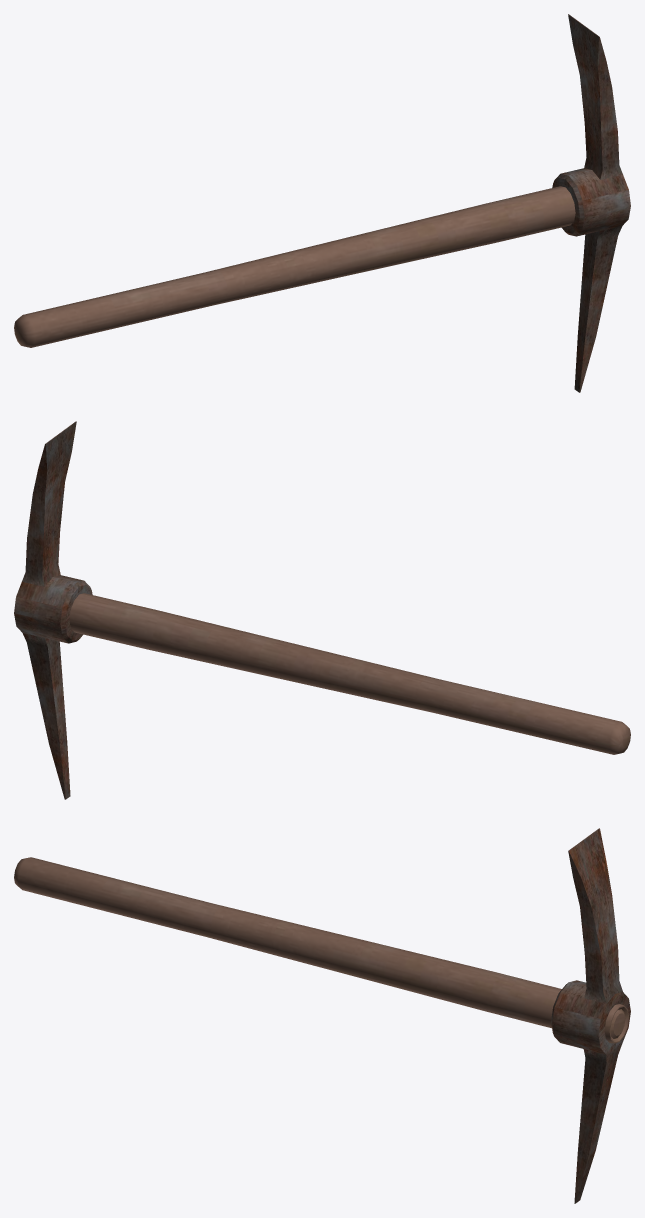
Rendered from war_pick.glb.
3 renders of one model, top to bottom at view 1: azimuth 30°, elevation 25°; view 2: azimuth 150°, elevation 25°; view 3: azimuth 330°, elevation 25°, orthographic.
Visible parts, largest first — view 1: tool; view 2: tool; view 3: tool.
Boxes of the visible parts, box(x1,y1,x2,y2) form: tool: box(14, 14, 630, 392); tool: box(14, 421, 630, 799); tool: box(14, 828, 630, 1203).
Bounding box in the file's own units: 0.6002 × 0.3472 × 0.0562.
Materials: 1 (1 with a texture image).
